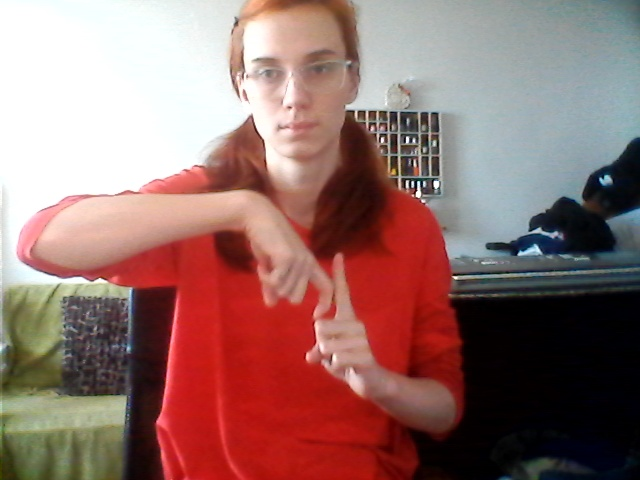k: (241, 218, 380, 407)
